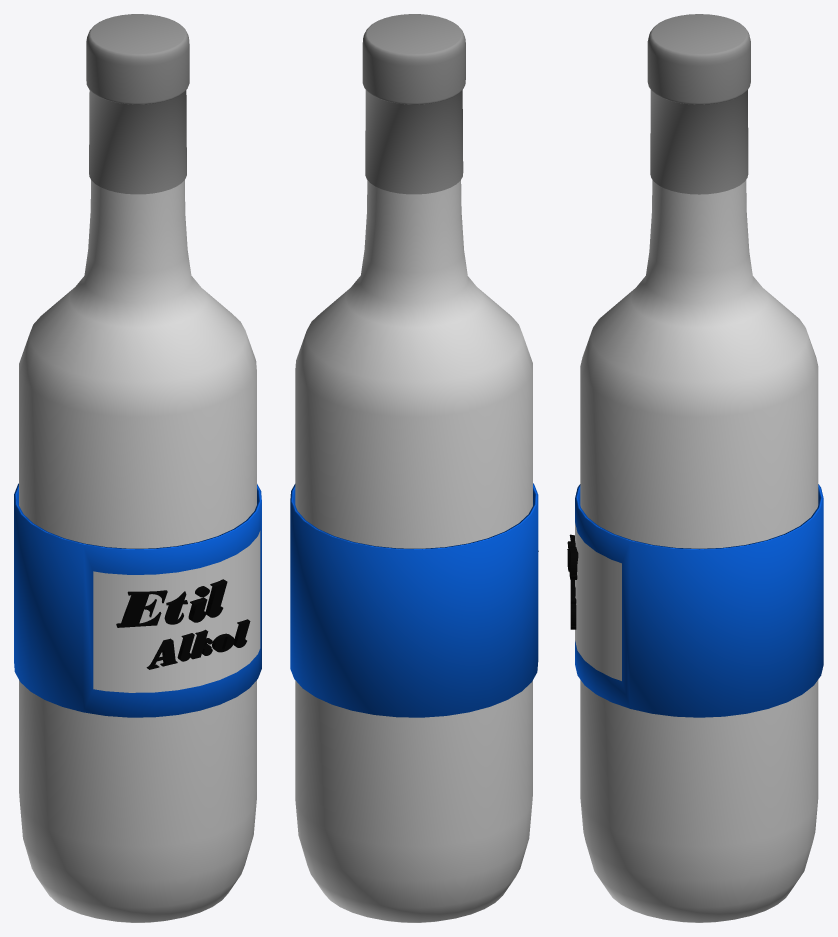
The model's file is Etil Alkol.fbx.
3 renders of one model, left to right at view 1: azimuth 30°, elevation 25°; view 2: azimuth 150°, elevation 25°; view 3: azimuth 270°, elevation 25°, orthographic.
Parts seen in each view (by area): view 1: Cylinder, Cylinder.002, Cylinder.001, Text.001, Text.002; view 2: Cylinder, Cylinder.002, Cylinder.001; view 3: Cylinder, Cylinder.002, Cylinder.001.
Boxes of the visible parts, x1,y1,x2,y2 form: Cylinder: (19, 180, 256, 922); Cylinder.002: (14, 483, 261, 717); Cylinder.001: (86, 14, 189, 194); Text.001: (116, 579, 227, 627); Text.002: (146, 619, 250, 669); Cylinder: (295, 180, 532, 922); Cylinder.002: (290, 483, 538, 717); Cylinder.001: (362, 14, 465, 194); Cylinder: (580, 180, 818, 922); Cylinder.002: (575, 484, 823, 717); Cylinder.001: (647, 14, 750, 194).
Size of the model in its own units: 103 by 390 by 106.
